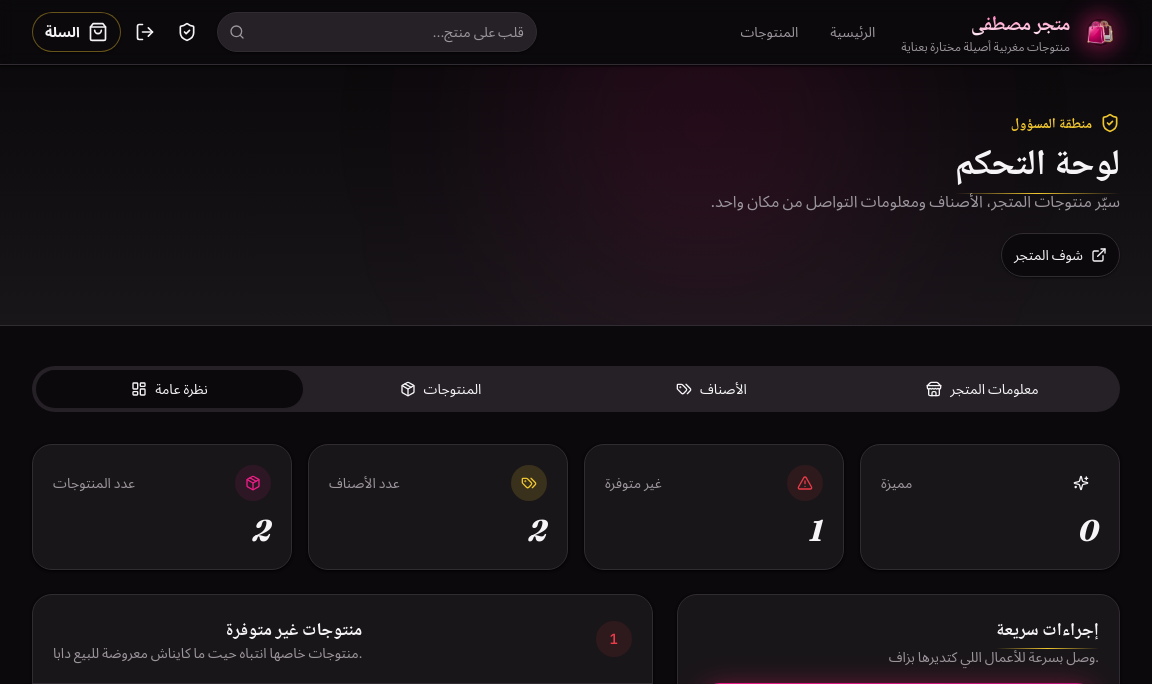
Test: admin category management › renames a category inline
Click the tab "الأصناف" at (712, 389), box top-left (578, 370), bottom-right (845, 408)
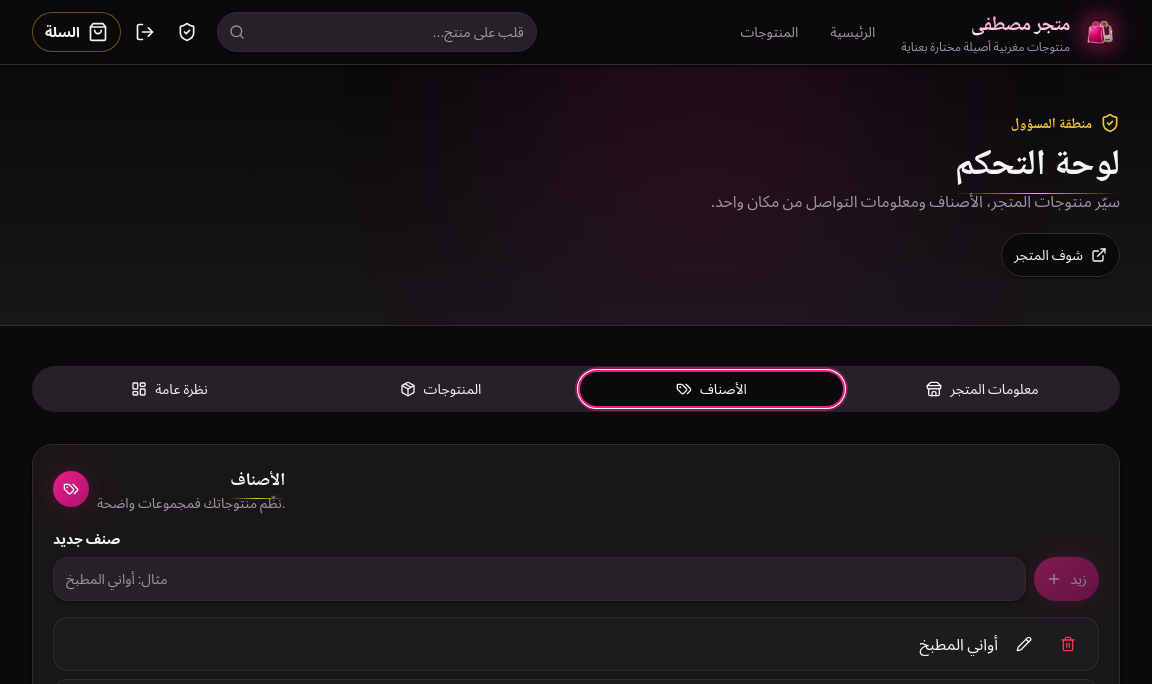
Click the button named "بدّل سمية أواني المطبخ" at (1024, 644), box top-left (1006, 626), bottom-right (1042, 662)
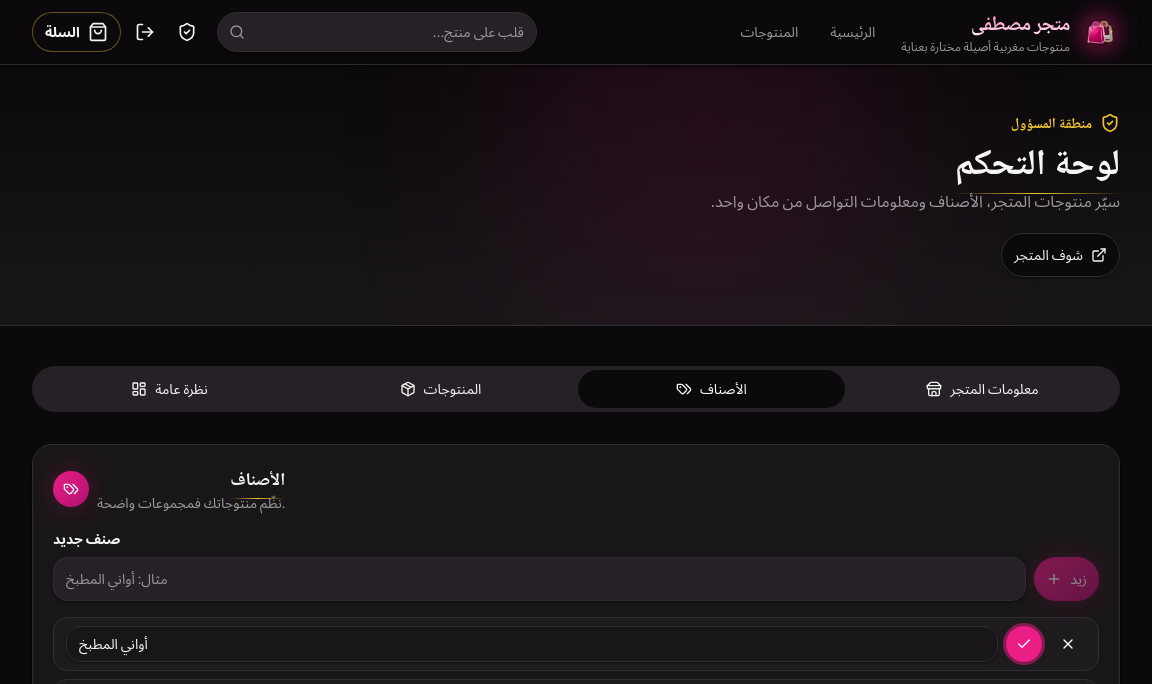
Replace the text in the field named "سمية الصنف أواني المطبخ" with "أواني الطياب" at (532, 644), box top-left (66, 626), bottom-right (998, 662)
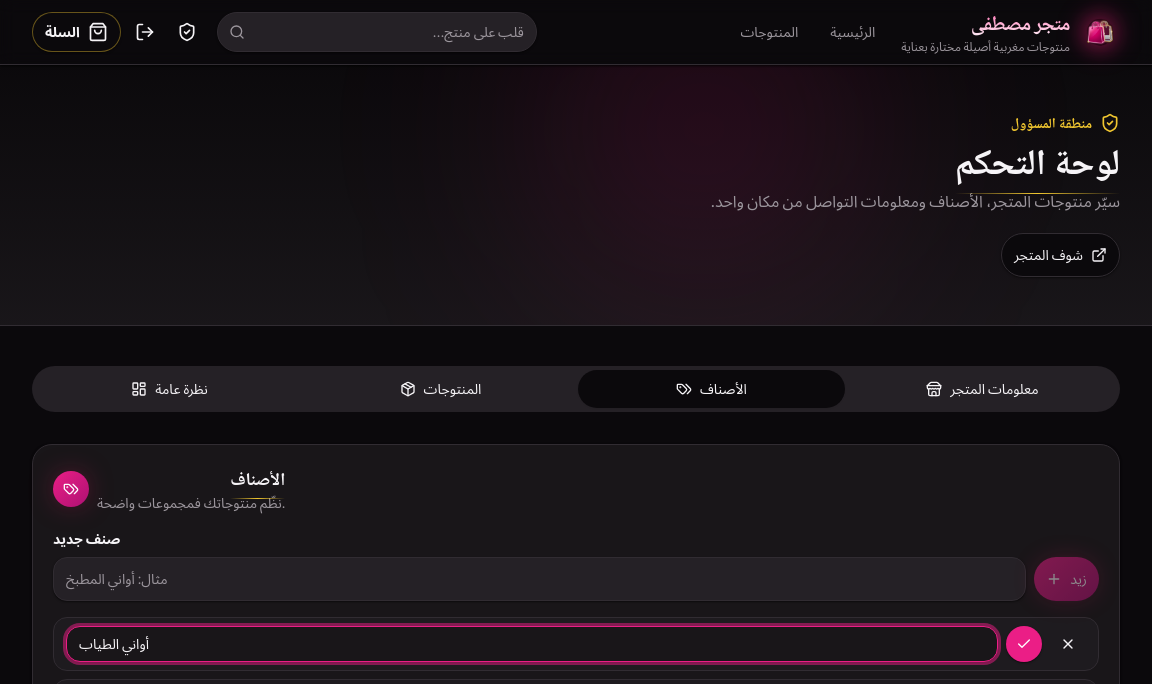
Click the button named "سجّل السمية الجديدة" at (1024, 644), box top-left (1006, 626), bottom-right (1042, 662)
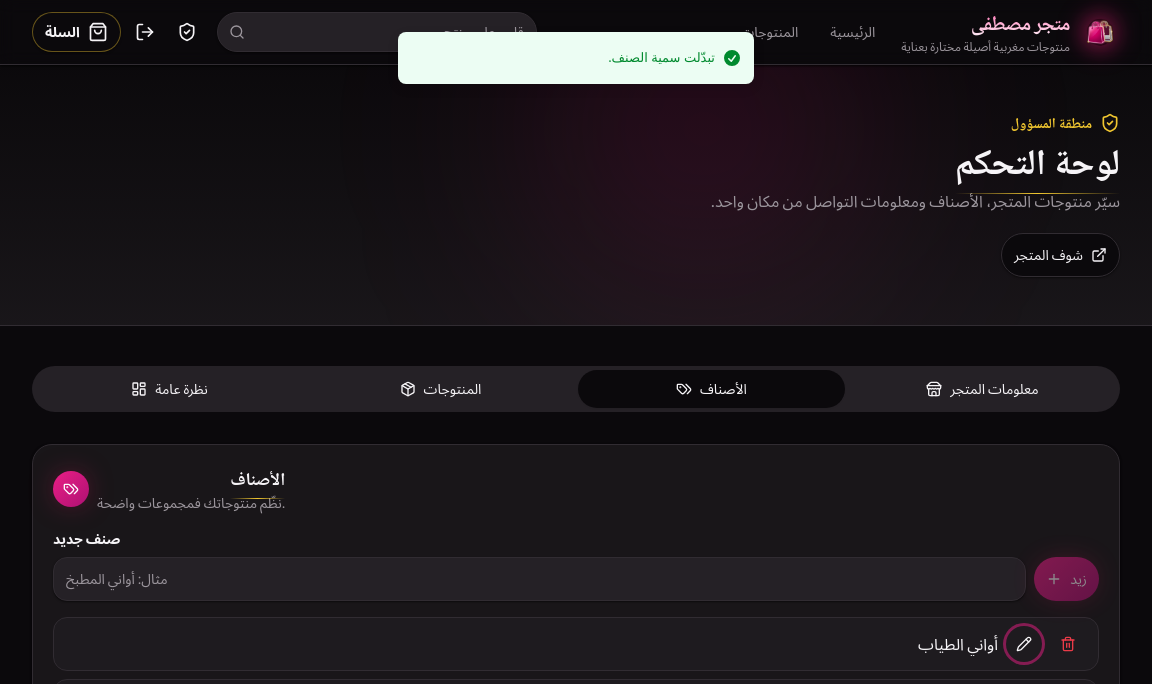
Expected: the text "أواني الطياب" is shown, top-left (918, 634), bottom-right (998, 654)
